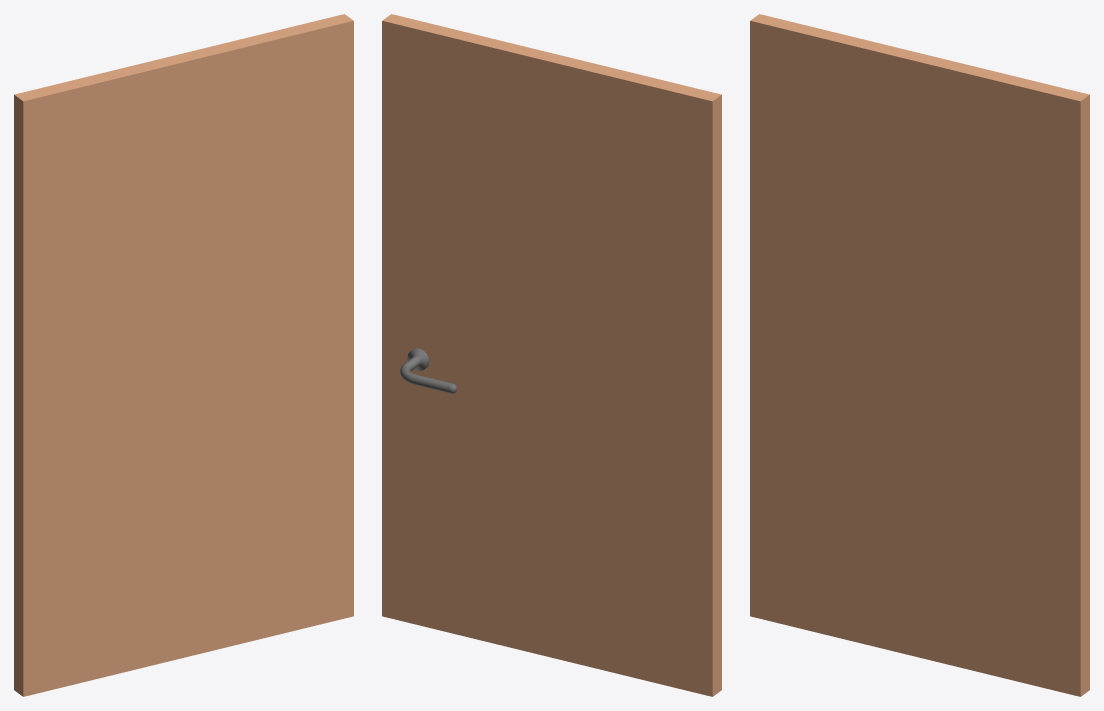
Rendered from Porte.fbx.
3 views of the same model, side by side, from view 1: azimuth 30°, elevation 25°; view 2: azimuth 150°, elevation 25°; view 3: azimuth 330°, elevation 25° (orthographic).
Visible parts, largest first — view 1: Porte; view 2: Porte; view 3: Porte.
Boxes of the visible parts, x1,y1,x2,y2 form: Porte: [14, 14, 353, 696]; Porte: [382, 14, 721, 696]; Porte: [750, 14, 1089, 696].
Bounding box in the file's own units: 675 × 1162 × 120.
